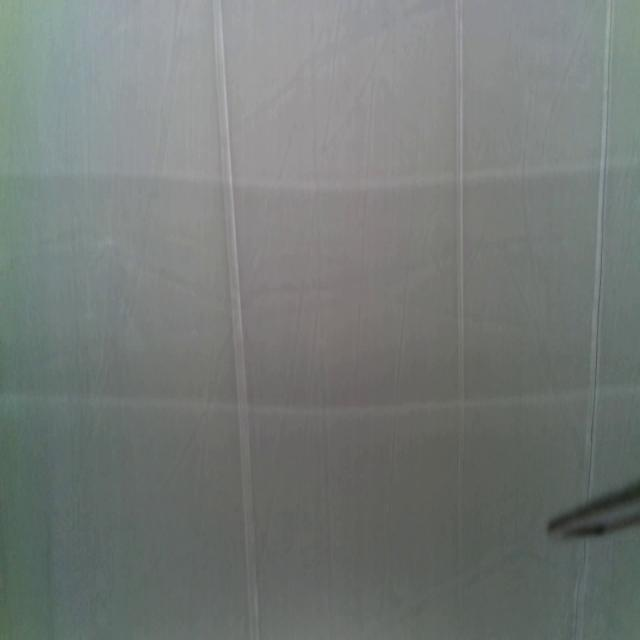color bleeding: (0, 158, 640, 416)
crease: (212, 0, 260, 639), (584, 0, 615, 495), (456, 0, 466, 640), (572, 538, 590, 638)
